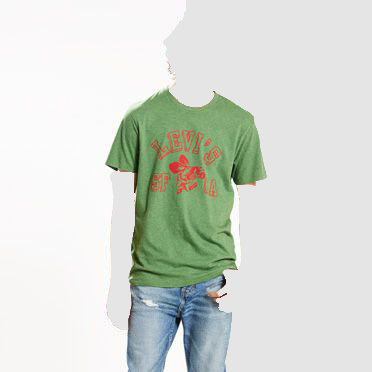teeshirt: (102, 86, 268, 296)
